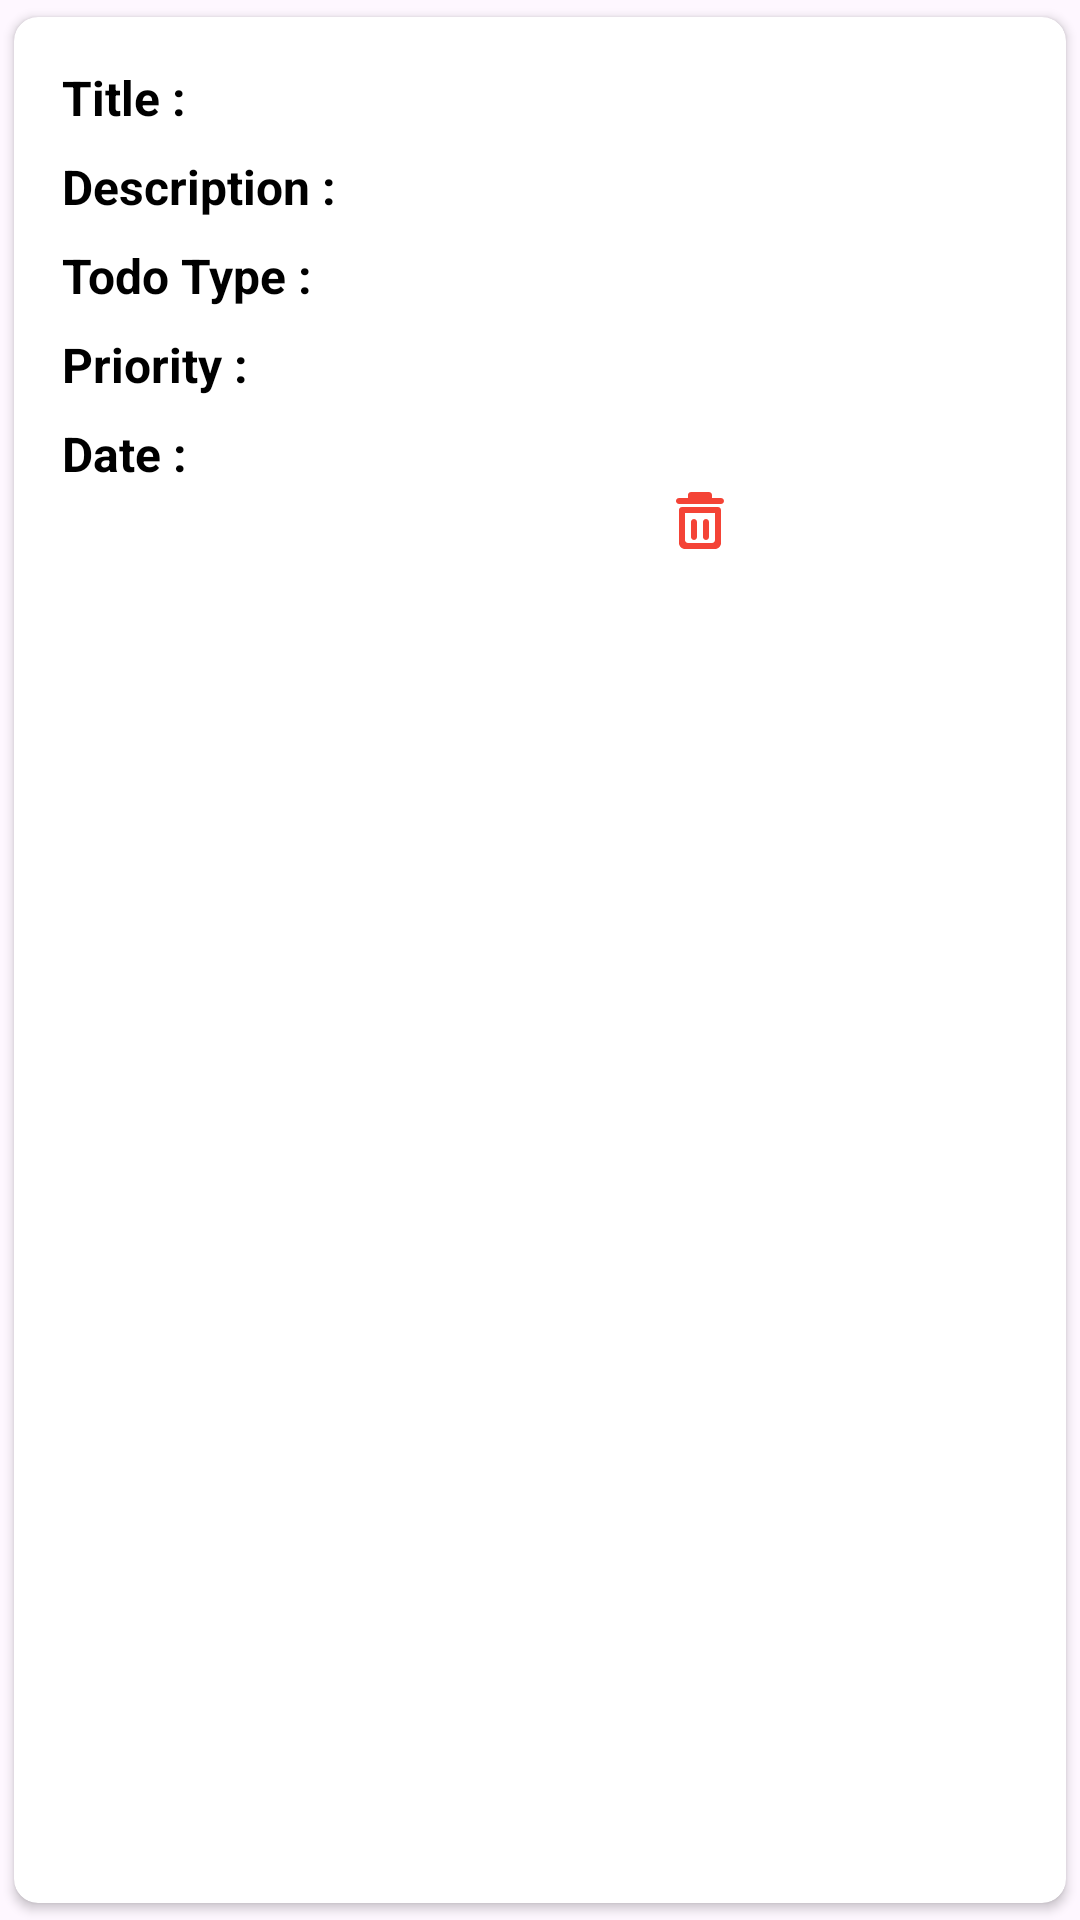

Screen size 1080w x 1920h. Icon name, then its box in pixels as detection(x1, y1, x2, y2):
Delete: detection(676, 492, 724, 549)
